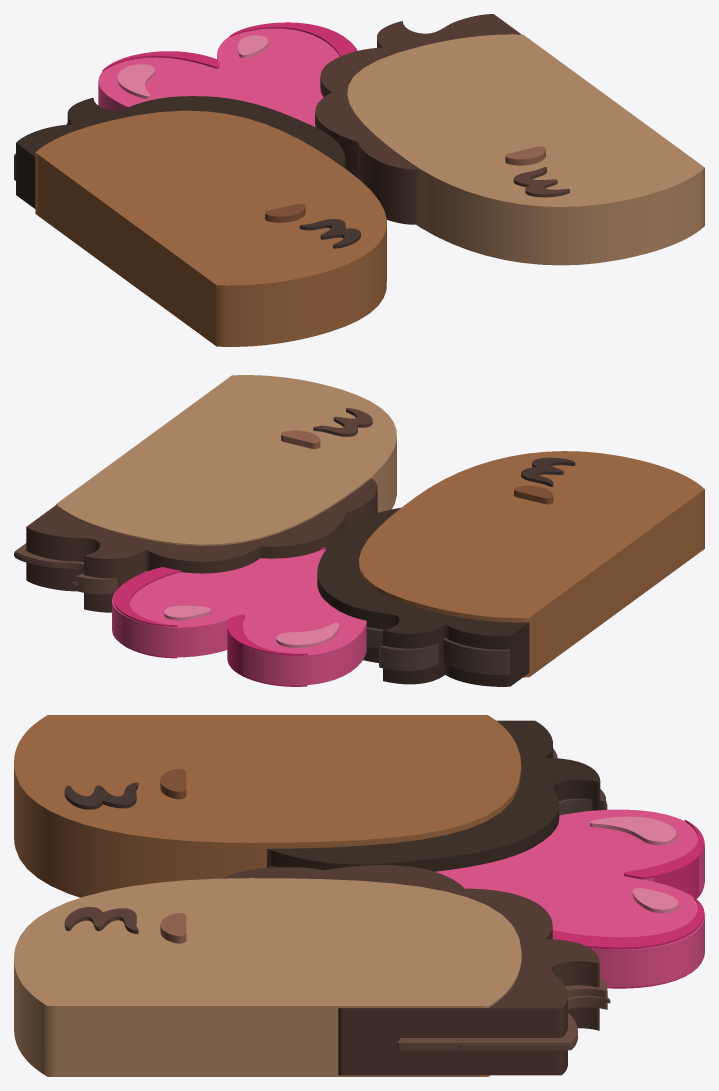
Rendered from emoji_u1f9d1_1f3fe_200d_2764_200d_1f48b_200d_1f9d1_1f3fd.glb.
3 views of the same model, one above another, from view 1: azimuth 30°, elevation 25°; view 2: azimuth 150°, elevation 25°; view 3: azimuth 270°, elevation 25° (orthographic). The views are drawn at different scales.
Visible parts, largest first — view 1: emoji_u1f9d1_1f3fe_200d_2764_200d_1f48b_200d_1f9d1_1f3fd; view 2: emoji_u1f9d1_1f3fe_200d_2764_200d_1f48b_200d_1f9d1_1f3fd; view 3: emoji_u1f9d1_1f3fe_200d_2764_200d_1f48b_200d_1f9d1_1f3fd.
Boxes of the visible parts, x1,y1,x2,y2 form: emoji_u1f9d1_1f3fe_200d_2764_200d_1f48b_200d_1f9d1_1f3fd: (14,14,704,346); emoji_u1f9d1_1f3fe_200d_2764_200d_1f48b_200d_1f9d1_1f3fd: (14,375,704,686); emoji_u1f9d1_1f3fe_200d_2764_200d_1f48b_200d_1f9d1_1f3fd: (14,715,704,1076).
Bounding box in the file's own units: 0.0339 × 0.0048 × 0.0336.
